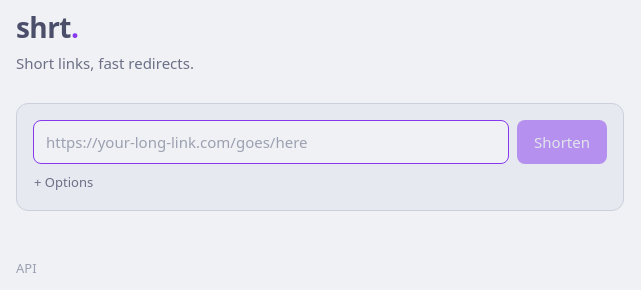
it: App › renders the form with submit disabled until a URL is typed
The width and height of the screenshot is (641, 290).
Expected: the button "Shorten" is disabled, [517,120,607,164]
Type "https://example.com" into the field named "Long URL". click: (271, 142)
box: [33,120,509,164]
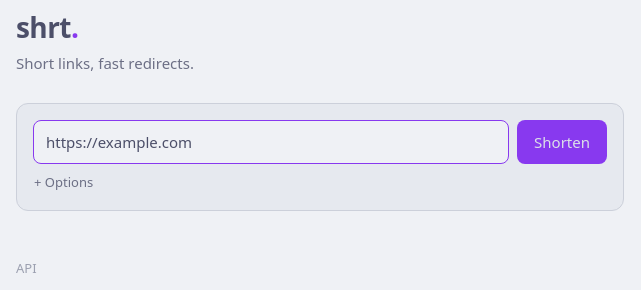
Expected: the button "Shorten" is enabled, [517,120,607,164]
